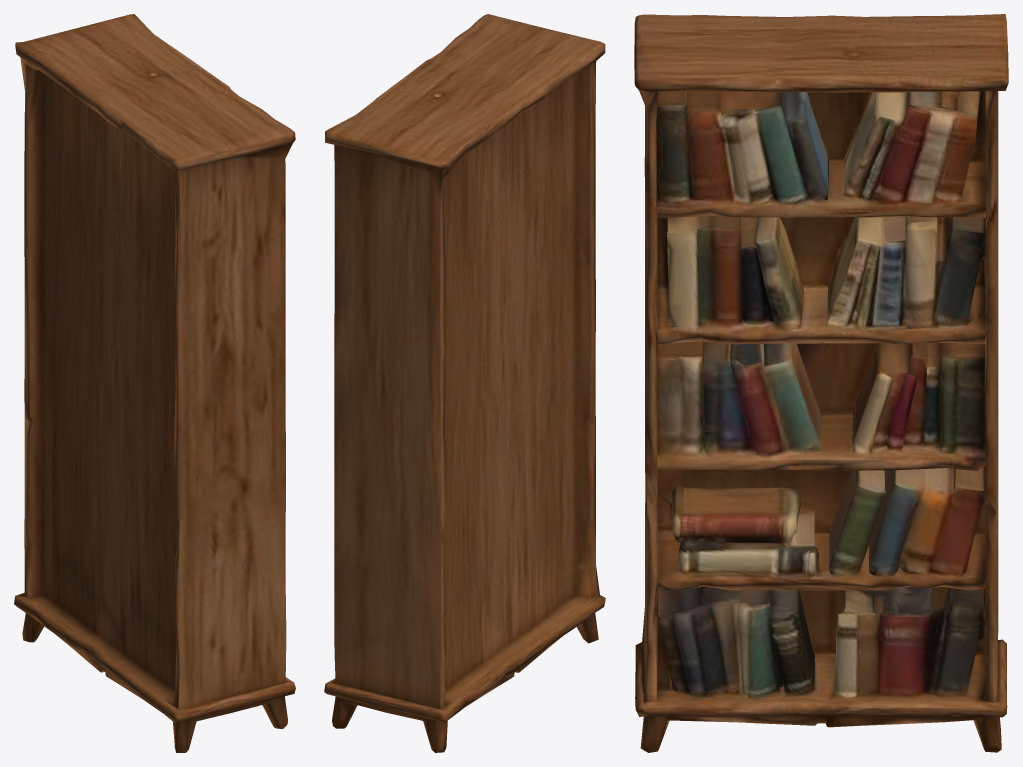
File: prop_bookshelf-BjmPeEHK.glb
3 renders of one model, left to right at view 1: azimuth 30°, elevation 25°; view 2: azimuth 150°, elevation 25°; view 3: azimuth 270°, elevation 25°, orthographic. The views are drawn at different scales.
Parts seen in each view (by area): view 1: tripo_node_5e0f03ea-0c09-496e-943d-8b229fae79c6; view 2: tripo_node_5e0f03ea-0c09-496e-943d-8b229fae79c6; view 3: tripo_node_5e0f03ea-0c09-496e-943d-8b229fae79c6.
Part boxes in pixels (bbox=[...]): tripo_node_5e0f03ea-0c09-496e-943d-8b229fae79c6: bbox=[14, 14, 295, 752]; tripo_node_5e0f03ea-0c09-496e-943d-8b229fae79c6: bbox=[324, 14, 605, 752]; tripo_node_5e0f03ea-0c09-496e-943d-8b229fae79c6: bbox=[634, 14, 1008, 752].
Bounding box in the file's own units: 0.216 × 1 × 0.5012.
Materials: 1 (1 with a texture image).
